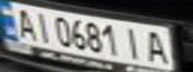0: (51, 14, 72, 47)
1: (100, 21, 121, 56)
6: (66, 16, 87, 51)
8: (84, 19, 103, 54)
A: (139, 28, 175, 65), (9, 6, 39, 40)
I: (121, 25, 148, 61), (30, 9, 54, 43)
